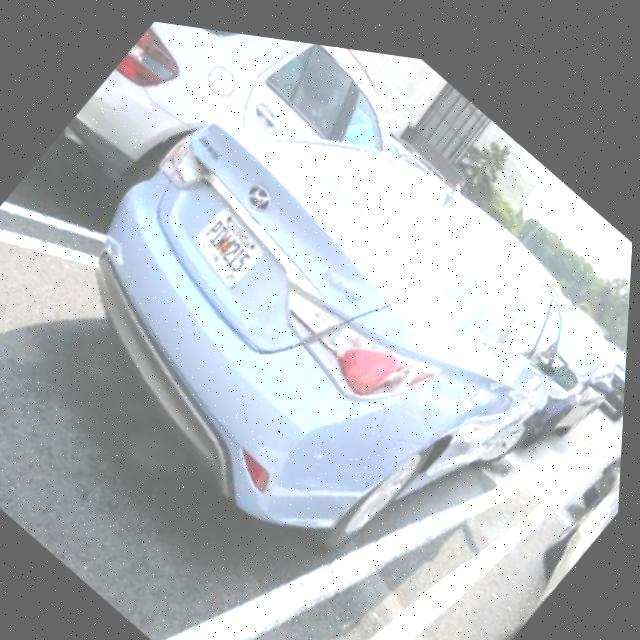license_plate: (183, 193, 274, 290)
